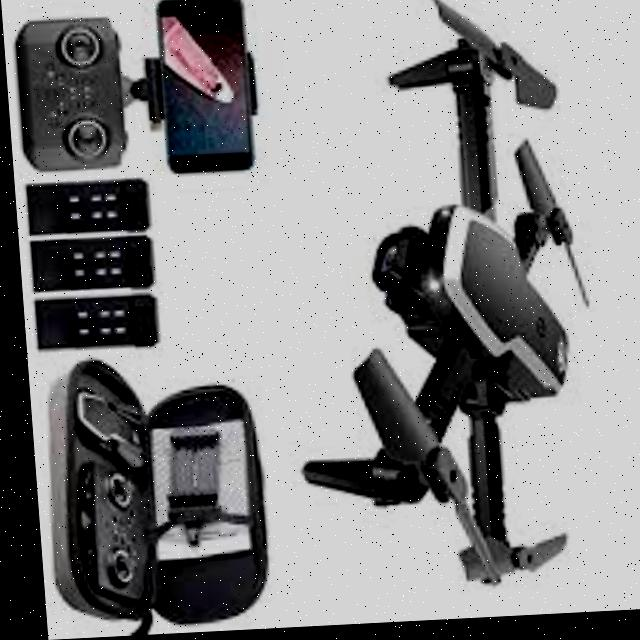drone: (266, 0, 616, 612)
